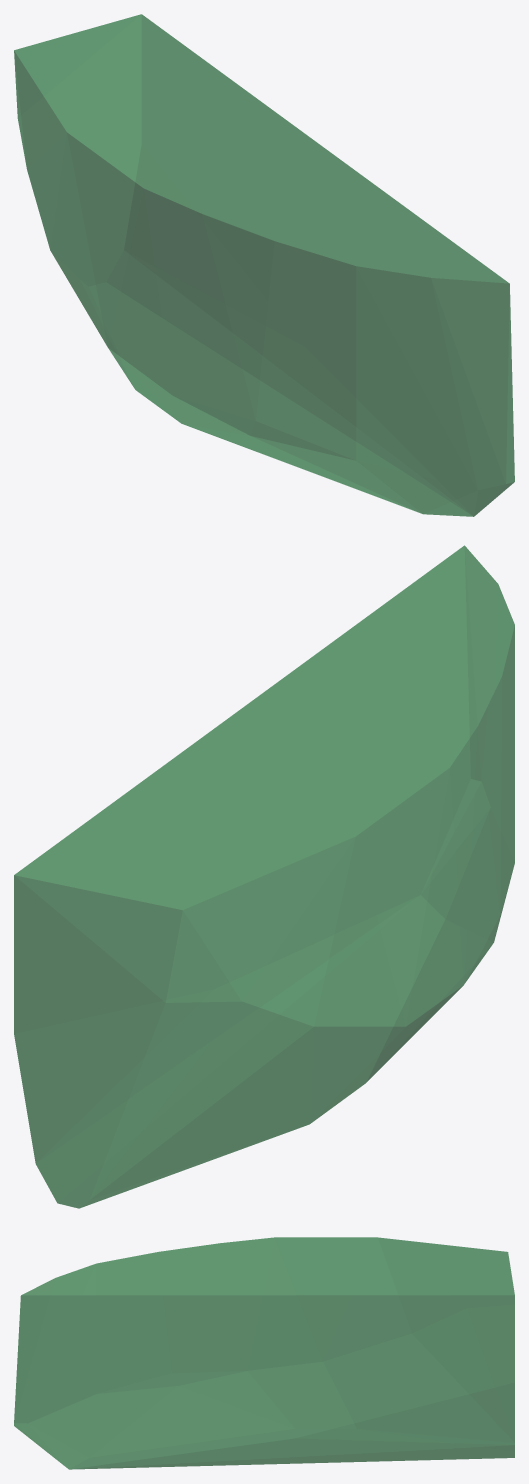
3 views of the same model, one above another, from view 1: azimuth 30°, elevation 25°; view 2: azimuth 150°, elevation 25°; view 3: azimuth 270°, elevation 25° (orthographic). The views are drawn at different scales.
Parts seen in each view (by area): view 1: Shape_IndexedFaceSet.008_Shape_IndexedFaceSet.3596; view 2: Shape_IndexedFaceSet.008_Shape_IndexedFaceSet.3596; view 3: Shape_IndexedFaceSet.008_Shape_IndexedFaceSet.3596.
Part boxes in pixels (x1,y1,x2,y2): Shape_IndexedFaceSet.008_Shape_IndexedFaceSet.3596: (14,14,514,516); Shape_IndexedFaceSet.008_Shape_IndexedFaceSet.3596: (14,545,514,1208); Shape_IndexedFaceSet.008_Shape_IndexedFaceSet.3596: (14,1237,514,1469).
Size of the model in its own units: 0.038 by 0.0532 by 0.1388.
